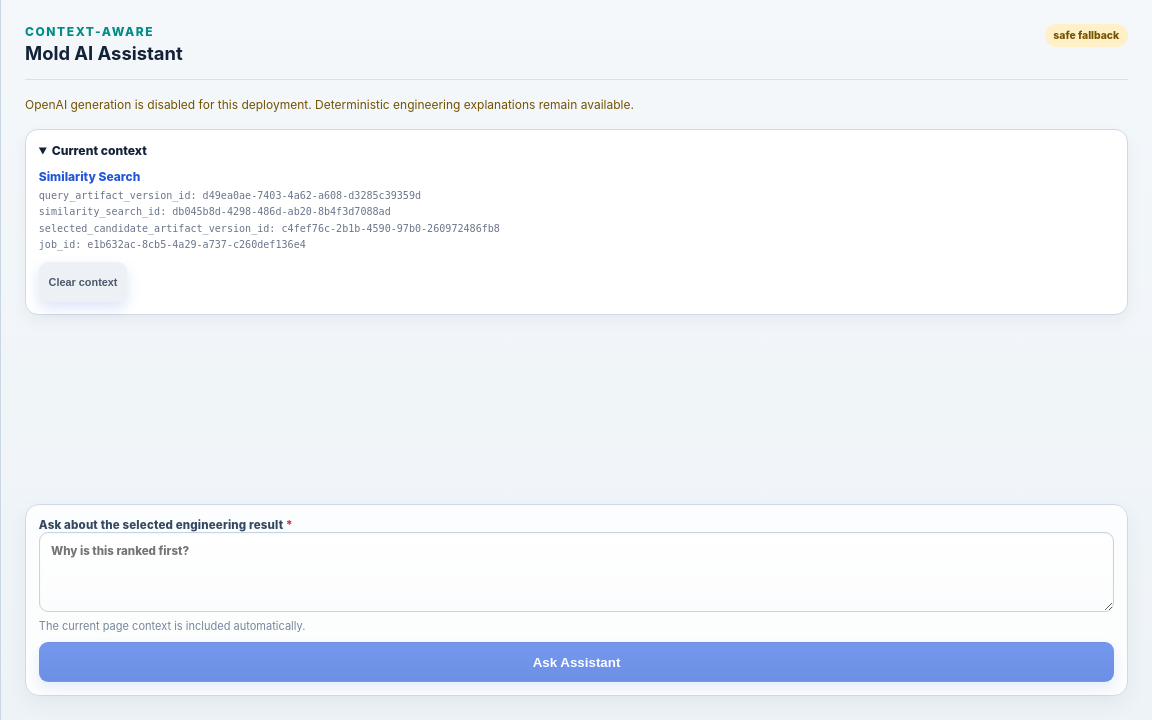
AssistantPanel › clears object references without mutating the parent context
This screenshot has width=1152, height=720.
What coordinates should you click on to do the following:
click the button with class "context-clear"
I would click on:
 (83, 282)
Its box is [39, 262, 127, 302].
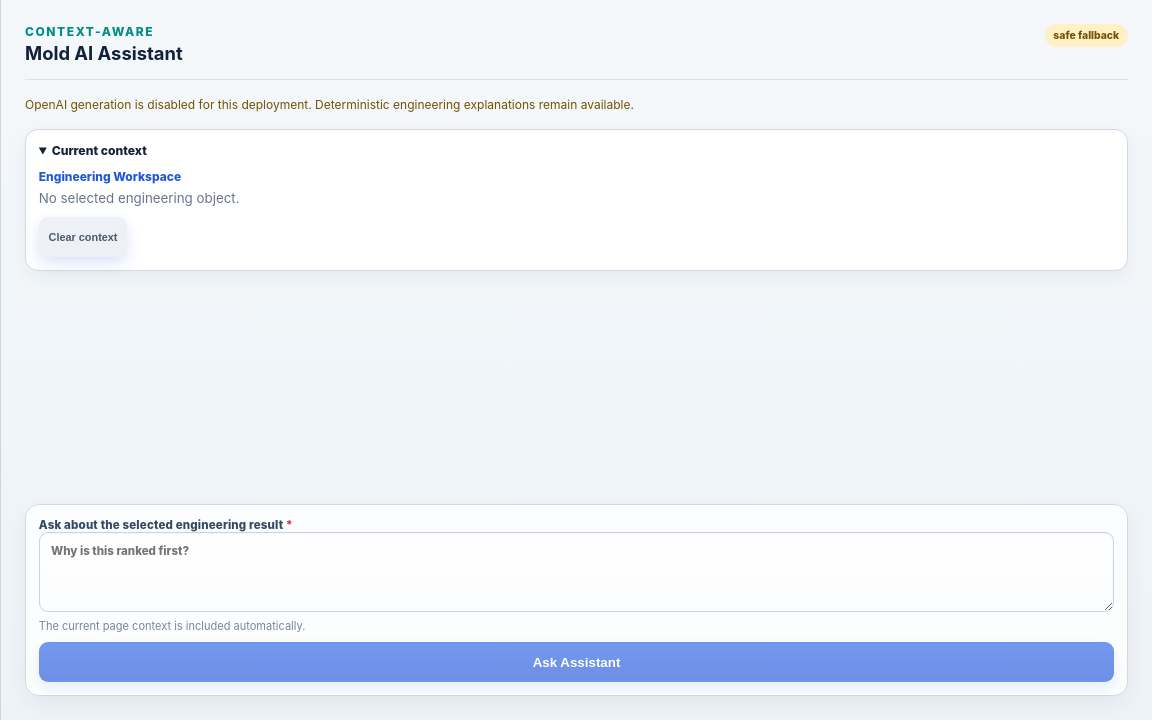
Now the text "No selected engineering object" is shown, box [39, 190, 240, 206]
